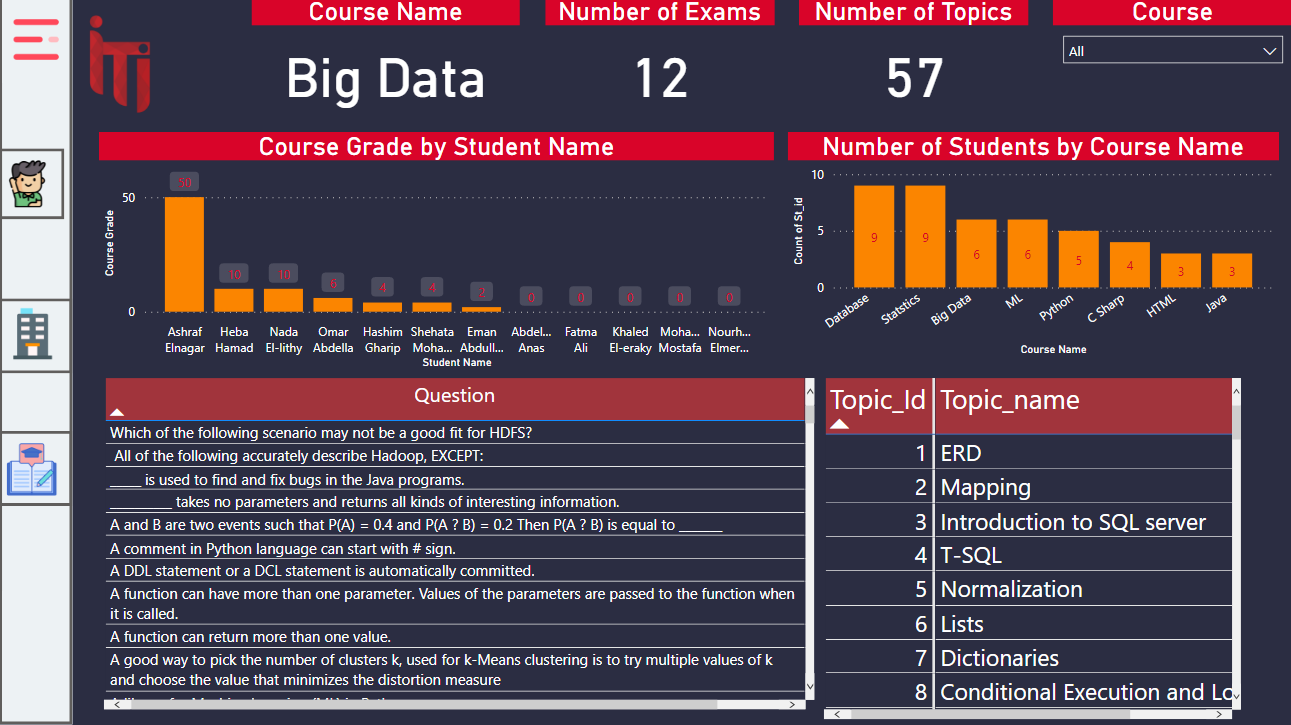

This screenshot's page, from the dashboard's own definition file:
{"tool":"powerbi","page":{"name":"Course","canvas":[1280,720],"ordinal":3},"visuals":[{"type":"actionButton","box":[0,0,72.8,719.7],"z":0},{"type":"image","box":[0,15.1,72.8,54.9],"z":1000},{"type":"image","box":[28.8,0,184,119.5],"z":2000},{"type":"actionButton","box":[0,149.7,64.5,70],"z":3000},{"type":"image","box":[0,149.7,56.3,70],"z":4000},{"type":"slicer","title":"Course","fields":{"Values":["Department.dept_name"]},"box":[1042.4,0,237.6,118.8],"z":5000},{"type":"actionButton","box":[0,429.4,72.9,74.3],"z":6000},{"type":"tableEx","fields":{"Values":["Question.Question"]},"box":[72.9,407.8,733.2,311.9],"z":7000},{"type":"card","title":"Course Name","fields":{"Values":["Min(Course.Crs_Name)"]},"box":[249.8,0.4,266,118.8],"z":8000},{"type":"card","title":"Number of Exams","fields":{"Values":["Count(St_Exam.Exam_id)"]},"box":[540.1,0,226.8,118.8],"z":9000},{"type":"columnChart","title":"Number of Students by Course Name","fields":{"Category":["Course.Crs_Name"],"Y":["CountNonNull(St_Crs.St_id)"]},"box":[791.2,132.3,486.1,226.8],"z":11000},{"type":"card","title":"Number of Topics","fields":{"Values":["CountNonNull(Topic.Topic_Id)"]},"box":[791.2,0,226.8,118.8],"z":12000},{"type":"tableEx","fields":{"Values":["Topic.Topic_Id","Topic.Topic_name"]},"box":[846.6,407.8,419.9,311.9],"z":13000},{"type":"image","box":[0,436.1,64.8,62.1],"z":14000},{"type":"actionButton","box":[0,298.4,72.9,74.3],"z":15000},{"type":"image","box":[2.7,297,62.1,72.9],"z":16000},{"type":"columnChart","fields":{"Category":["Student.Student Name"],"Y":["Sum(St_Crs.Course Grade)"]},"box":[93.2,133.7,629.2,226.8],"z":17000}]}

Visuals, with their boxes on the page's 1280x720 design canvas (x1, y1, x2, y2). These are canvas units, not pixel positions in the 1291x725 screenshot, which may show the page scaled, cropped or inside an application window:
actionButton: 0:0:73:720
image: 0:15:73:70
image: 29:0:213:120
actionButton: 0:150:64:220
image: 0:150:56:220
"Course" slicer: 1042:0:1280:119
actionButton: 0:429:73:504
tableEx - Question.Question: 73:408:806:720
"Course Name" card: 250:0:516:119
"Number of Exams" card: 540:0:767:119
"Number of Students by Course Name" columnChart: 791:132:1277:359
"Number of Topics" card: 791:0:1018:119
tableEx - Topic.Topic_Id x Topic.Topic_name: 847:408:1266:720
image: 0:436:65:498
actionButton: 0:298:73:373
image: 3:297:65:370
columnChart - Student.Student Name x Sum(St_Crs.Course Grade): 93:134:722:360
